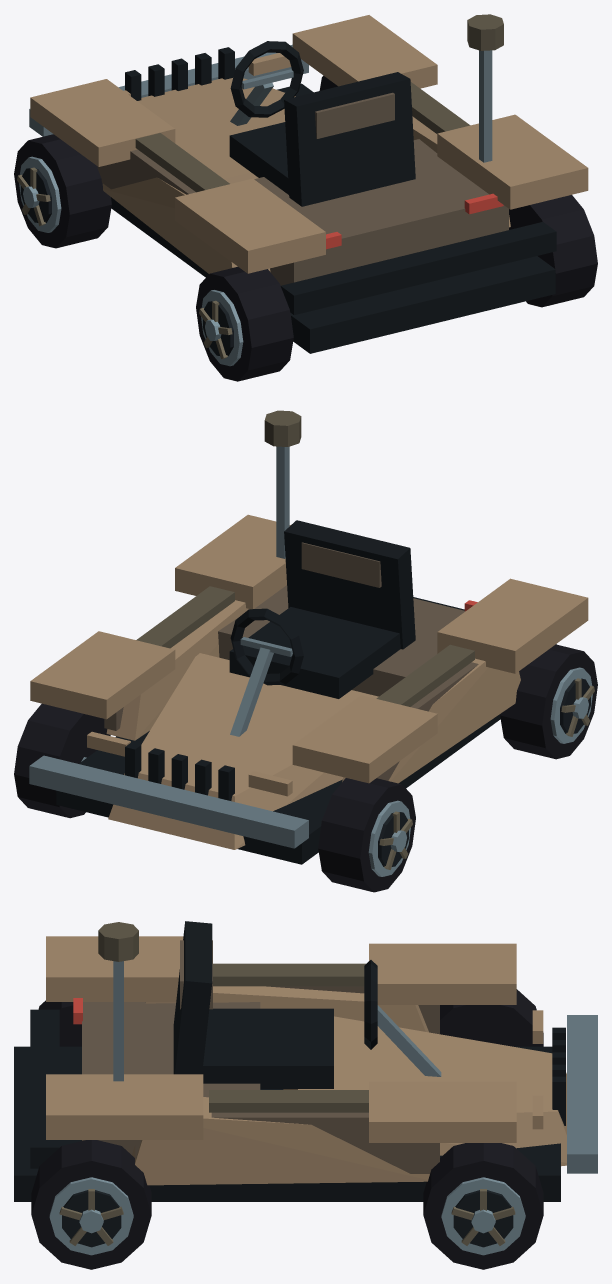
File: kart.glb
3 renders of one model, top to bottom at view 1: azimuth 30°, elevation 25°; view 2: azimuth 150°, elevation 25°; view 3: azimuth 270°, elevation 25°, orthographic. The views are drawn at different scales.
Visible parts, largest first — view 1: chassis, wheel-rear-left, wheel-front-left, wheel-rear-right; view 2: chassis, wheel-front-left, wheel-rear-left, wheel-front-right; view 3: chassis, wheel-rear-right, wheel-front-right, wheel-front-left, wheel-rear-left.
Boxes of the visible parts, x1=… form: chassis: x1=29, y1=14, x2=588, y2=353; wheel-rear-left: x1=196, y1=266, x2=293, y2=381; wheel-front-left: x1=14, y1=134, x2=111, y2=248; wheel-rear-right: x1=509, y1=195, x2=597, y2=307; chassis: x1=29, y1=410, x2=588, y2=864; wheel-front-left: x1=318, y1=778, x2=415, y2=892; wheel-rear-left: x1=500, y1=644, x2=597, y2=759; wheel-front-right: x1=14, y1=703, x2=110, y2=818; chassis: x1=14, y1=921, x2=597, y2=1201; wheel-rear-right: x1=31, y1=1140, x2=151, y2=1269; wheel-front-right: x1=423, y1=1143, x2=543, y2=1269; wheel-front-left: x1=440, y1=989, x2=543, y2=1046; wheel-rear-left: x1=38, y1=1000, x2=81, y2=1046.
Bounding box in the file's own units: 2.39 × 1.72 × 3.01.
